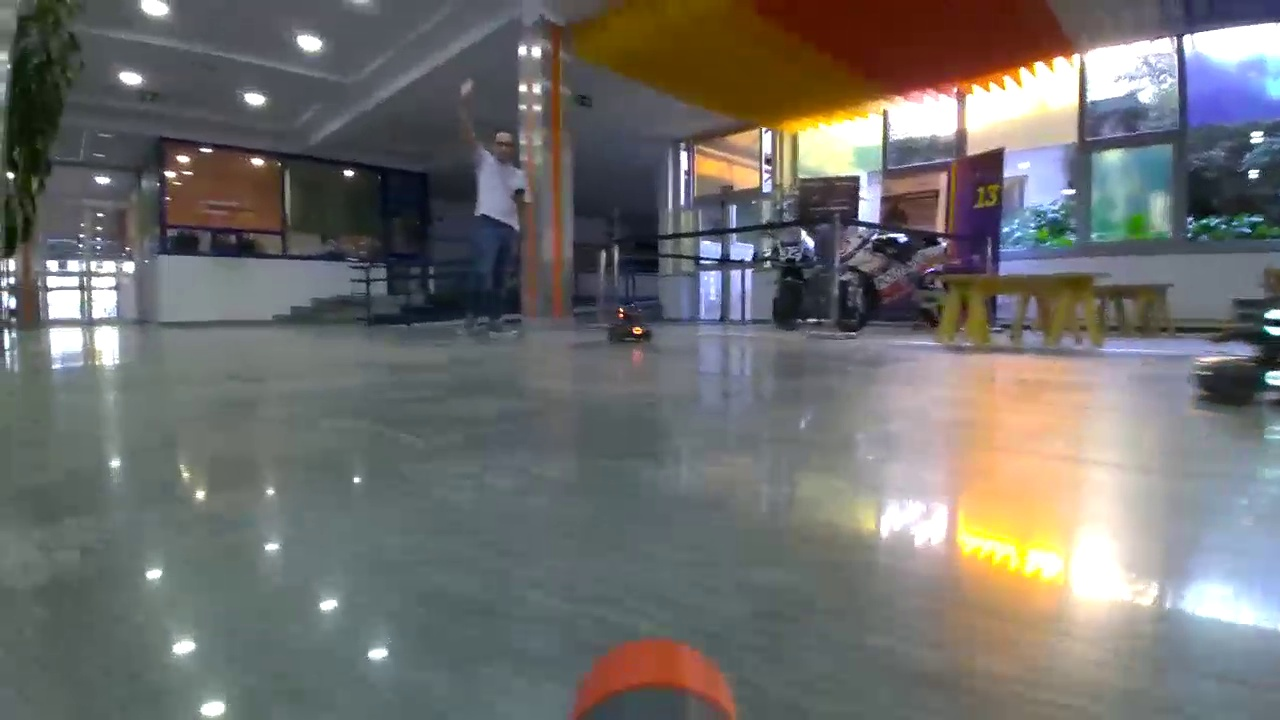robot: (1189, 298, 1280, 405), (609, 304, 651, 343)
